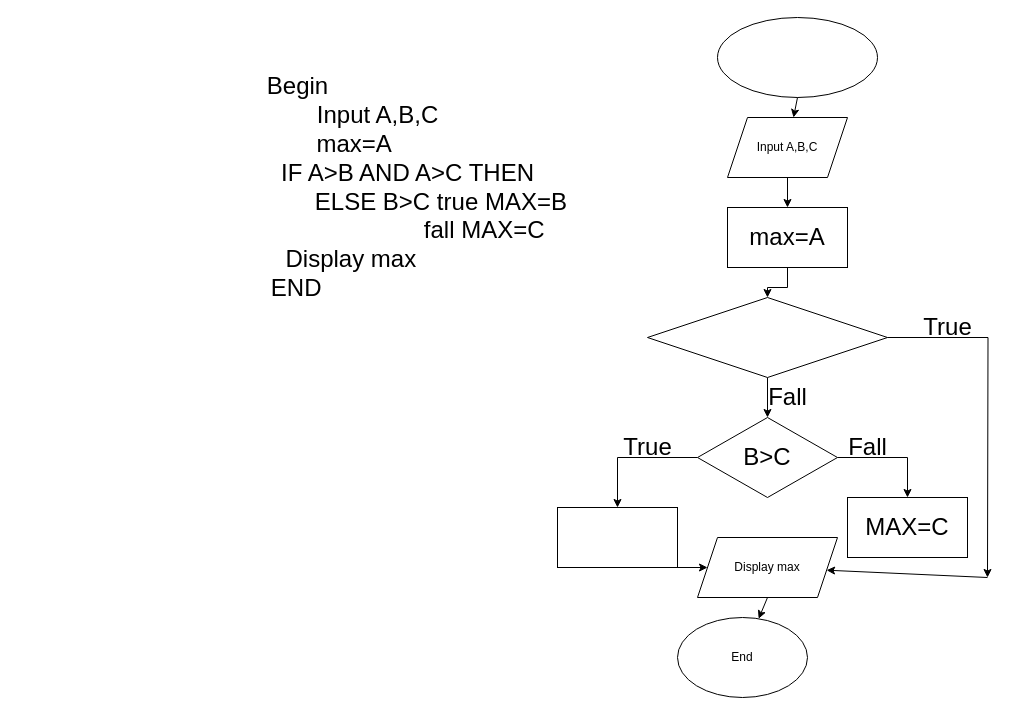
This 1013x715 diagram has some shape labels left out. The shapes that lost their labels are listed below. From the top down, each one's box as (x1, y1, x2, y2) in pixels, then its label:
(716, 16, 878, 98): Begin
(646, 296, 888, 378): A>B and A>C
(556, 506, 678, 568): MAX=B
